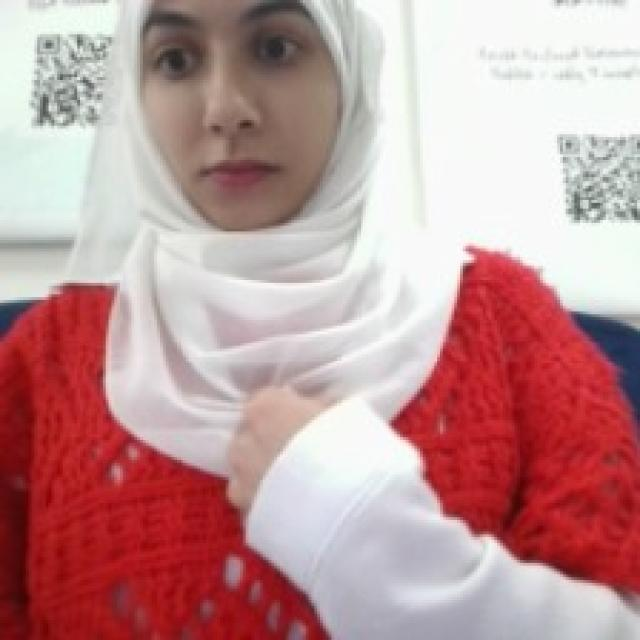me: (219, 376, 352, 527)
